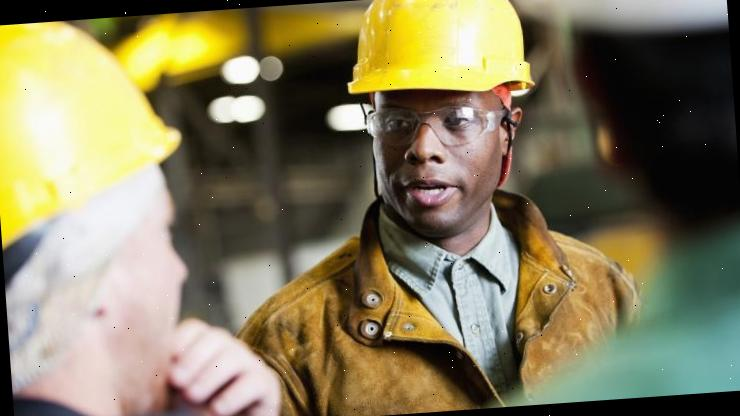helmet: (0, 13, 190, 255), (340, 0, 538, 108)
